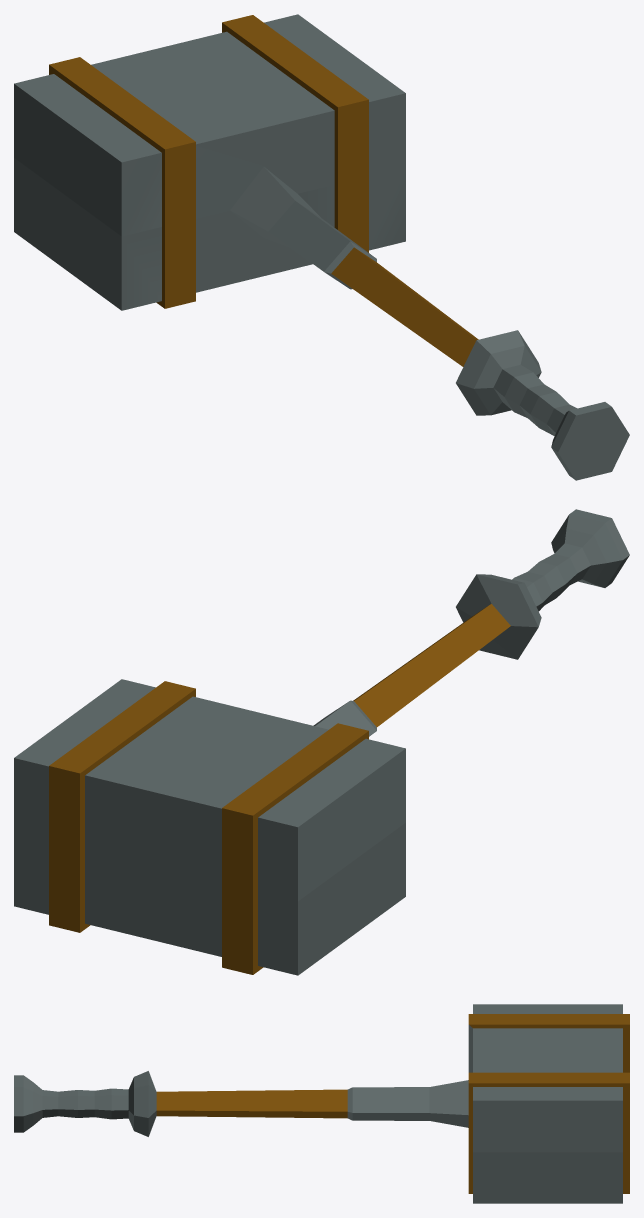
The model's file is Martillo (2).FBX.
3 renders of one model, top to bottom at view 1: azimuth 30°, elevation 25°; view 2: azimuth 150°, elevation 25°; view 3: azimuth 270°, elevation 25°, orthographic. The views are drawn at different scales.
Parts seen in each view (by area): view 1: Lucero del Alba001; view 2: Lucero del Alba001; view 3: Lucero del Alba001.
Boxes of the visible parts, bbox=[...] form: Lucero del Alba001: bbox=[14, 14, 629, 480]; Lucero del Alba001: bbox=[14, 509, 629, 975]; Lucero del Alba001: bbox=[14, 1004, 629, 1203].
Bounding box in the file's own units: 56.3 × 30.2 × 152.
